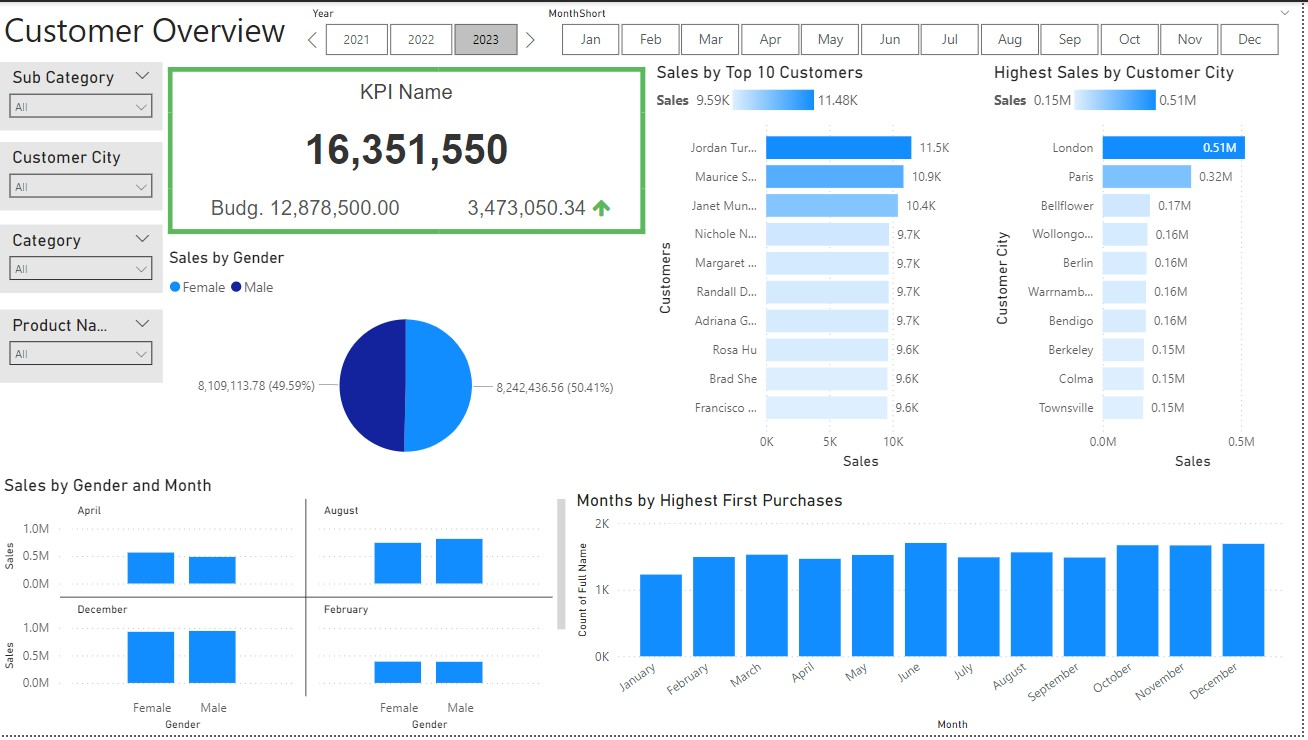

This screenshot's page, from the dashboard's own definition file:
{"tool":"powerbi","page":{"name":"Customer Overview","canvas":[1280,720],"ordinal":1},"visuals":[{"type":"textbox","box":[0,0,1279.8,58.9],"z":0},{"type":"slicer","fields":{"Values":["DIM_Product.Sub Category"]},"box":[0,58.9,160.7,67.5],"z":1000},{"type":"slicer","fields":{"Values":["DIM_Customer.Customer City"]},"box":[0,137.4,160.7,67.5],"z":2000},{"type":"slicer","fields":{"Values":["DIM_Product.Product Category"]},"box":[0,218.4,160.7,67.5],"z":3000},{"type":"slicer","fields":{"Values":["DIM_Product.Product Name"]},"box":[0,301.8,160.7,72.4],"z":4000},{"type":"slicer","fields":{"Values":["DIM_Calendar.Year"]},"box":[294.5,0,238,58.9],"z":5000},{"type":"slicer","fields":{"Values":["DIM_Calendar.MonthShort"]},"box":[526.4,0,753.4,58.9],"z":6000},{"type":"BBED0A4D4D8D44CE93CF2DAFADEE466C","fields":{"actual":["FACT_InternetSales.Sales"],"target2":["Key Measures.Sales - Budget Amount"],"target1":["Key Measures.Budget Amount"]},"box":[161.2,58.8,478.8,173.8],"z":7000},{"type":"pieChart","fields":{"Category":["DIM_Customer.Gender"],"Y":["Key Measures.Sales"]},"box":[162.5,241.2,475,222.5],"z":8000},{"type":"barChart","title":"Sales by Top 10 Customers","fields":{"Y":["Key Measures.Sales"],"Category":["DIM_Customer.Full Name"]},"box":[640,58.8,313.8,405],"z":9000},{"type":"barChart","title":"Highest Sales by Customer City","fields":{"Category":["DIM_Customer.Customer City"],"Y":["Key Measures.Sales"]},"box":[971.8,58.9,308,404.9],"z":10000},{"type":"clusteredColumnChart","title":"Months by Highest First Purchases","fields":{"Category":["DIM_Customer.DateFirstPurchase.Variation.Date Hierarchy.Month"],"Y":["CountNonNull(DIM_Customer.Full Name)"]},"box":[562,478.5,706.8,241.7],"z":10001},{"type":"clusteredColumnChart","fields":{"Y":["Key Measures.Sales"],"Category":["DIM_Customer.Gender"],"Rows":["DIM_Calendar.Month"]},"box":[0,463.8,562,256.4],"z":10002}]}

Visuals, with their boxes in screenshot pixels (x1, y1, x2, y2), scaled from the page's 1280x720 canvas onto the 1308x740 screenshot:
textbox: rect(0, 0, 1307, 61)
slicer - DIM_Product.Sub Category: rect(0, 61, 164, 130)
slicer - DIM_Customer.Customer City: rect(0, 141, 164, 211)
slicer - DIM_Product.Product Category: rect(0, 224, 164, 294)
slicer - DIM_Product.Product Name: rect(0, 310, 164, 385)
slicer - DIM_Calendar.Year: rect(301, 0, 544, 61)
slicer - DIM_Calendar.MonthShort: rect(538, 0, 1307, 61)
BBED0A4D4D8D44CE93CF2DAFADEE466C - FACT_InternetSales.Sales x Key Measures.Sales - Budget Amount: rect(165, 60, 654, 239)
pieChart - DIM_Customer.Gender x Key Measures.Sales: rect(166, 248, 651, 477)
"Sales by Top 10 Customers" barChart: rect(654, 60, 975, 477)
"Highest Sales by Customer City" barChart: rect(993, 61, 1307, 477)
"Months by Highest First Purchases" clusteredColumnChart: rect(574, 492, 1297, 739)
clusteredColumnChart - Key Measures.Sales x DIM_Customer.Gender: rect(0, 477, 574, 739)
